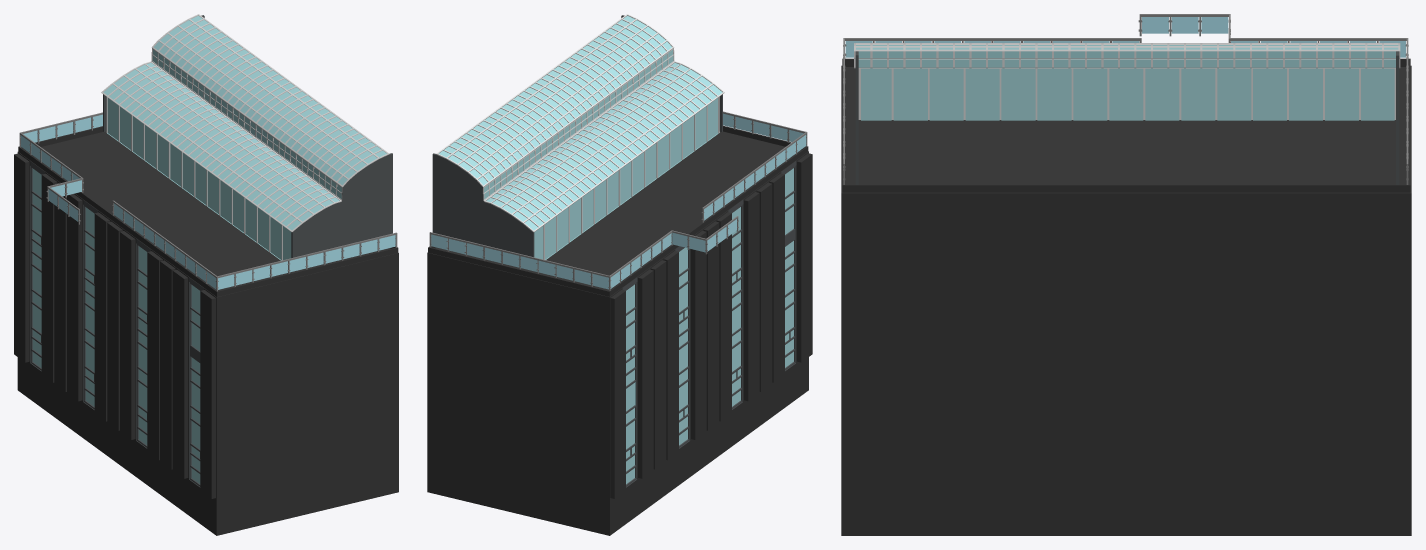
Rendered from Building_6.fbx.
The picture shows the model from 3 angles, left to right: view 1: azimuth 30°, elevation 25°; view 2: azimuth 150°, elevation 25°; view 3: azimuth 270°, elevation 25°; orthographic projection. The views are drawn at different scales.
Visible parts, largest first — view 1: Building_6; view 2: Building_6; view 3: Building_6.
Part boxes in pixels (x1,y1,x2,y2): Building_6: (14, 14, 398, 535); Building_6: (427, 14, 812, 535); Building_6: (841, 14, 1411, 535).
Bounding box in the file's own units: 2027 × 3011 × 3226.
